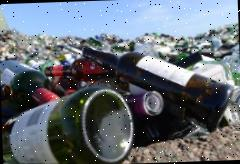glass: (0, 39, 236, 164)
